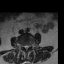CCS_normal: (25, 43, 27, 52)
LFS_normal: (29, 43, 31, 49)
LLS_normal: (27, 43, 29, 50)
RFS_stenosis: (21, 43, 23, 49)
RLS_normal: (23, 43, 25, 49)
